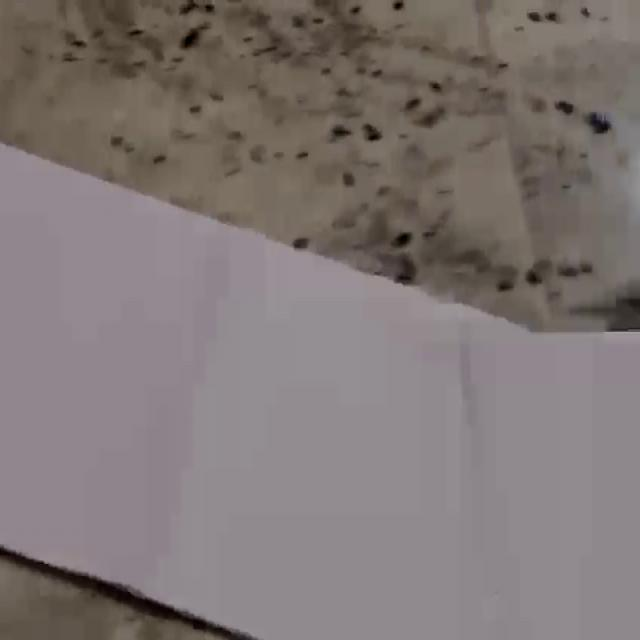road: (0, 141, 640, 640)
